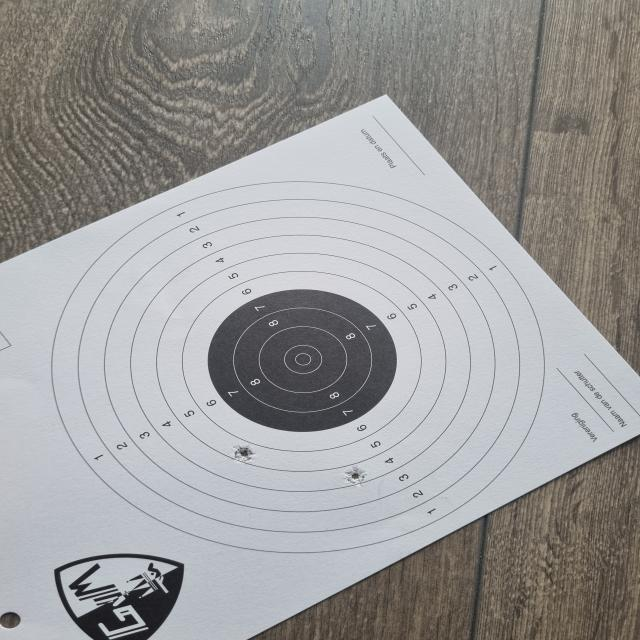4: (343, 466, 368, 487)
5: (232, 445, 253, 463)
Target: (53, 180, 545, 554)
black_contour: (208, 288, 398, 432)
